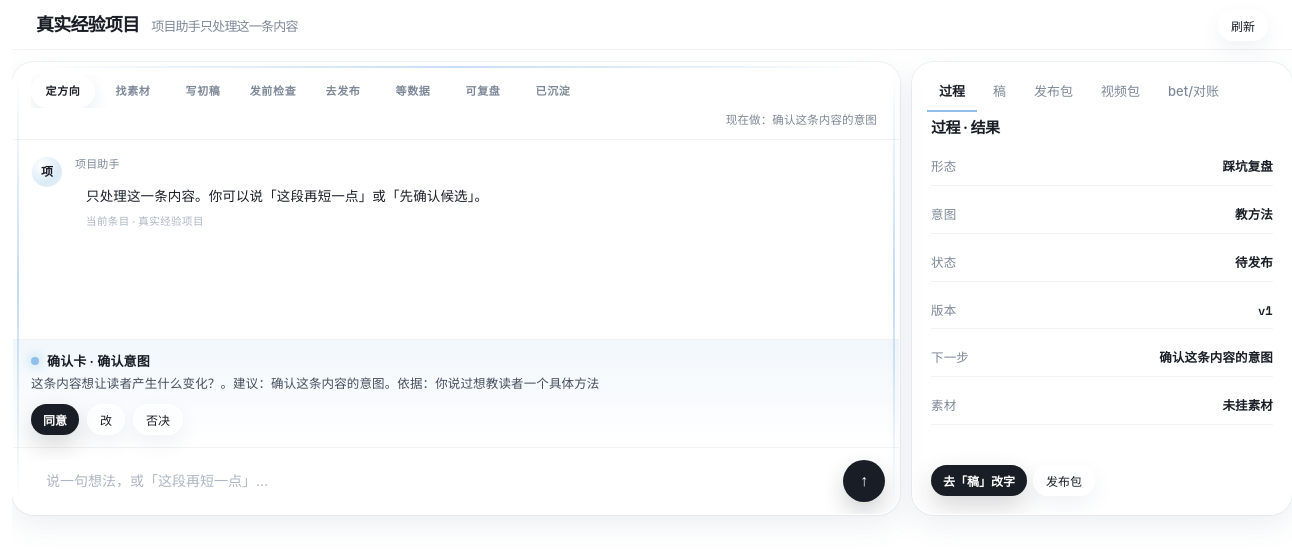
Test: ProjectStagePage › surfaces an accept failure without claiming success
The width and height of the screenshot is (1292, 555).
Click the button "同意".
click(55, 419)  # box [31,404,79,435]
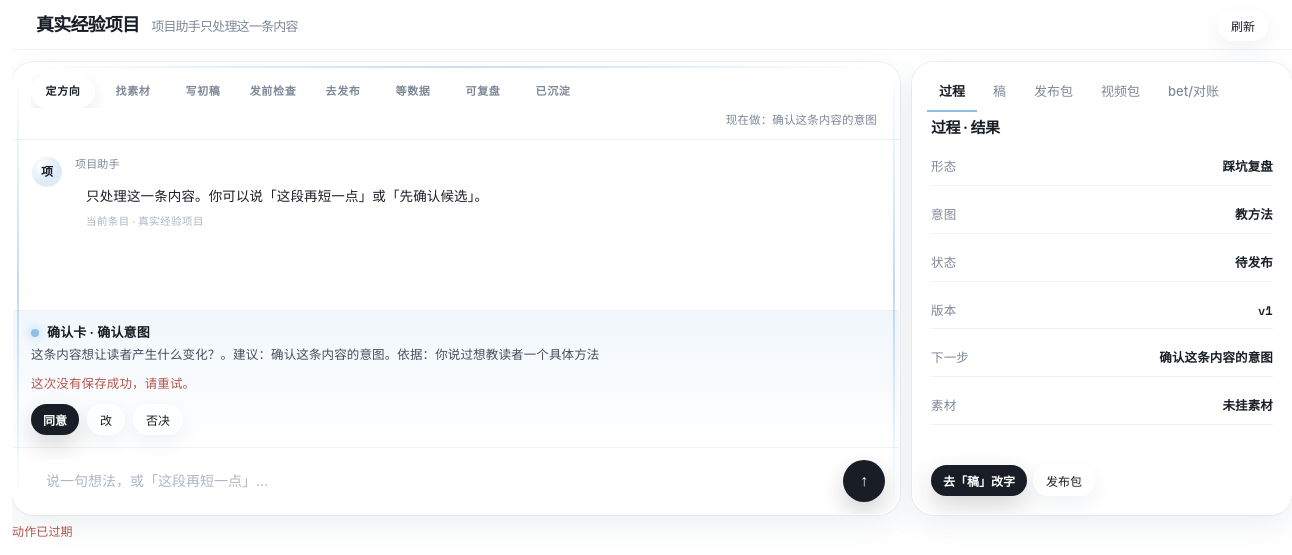
Now the message reads "动作已过期", box [12,524,73,539]
Now the text "这次没有保存成功，请重试。" is shown, box [31,376,195,391]
